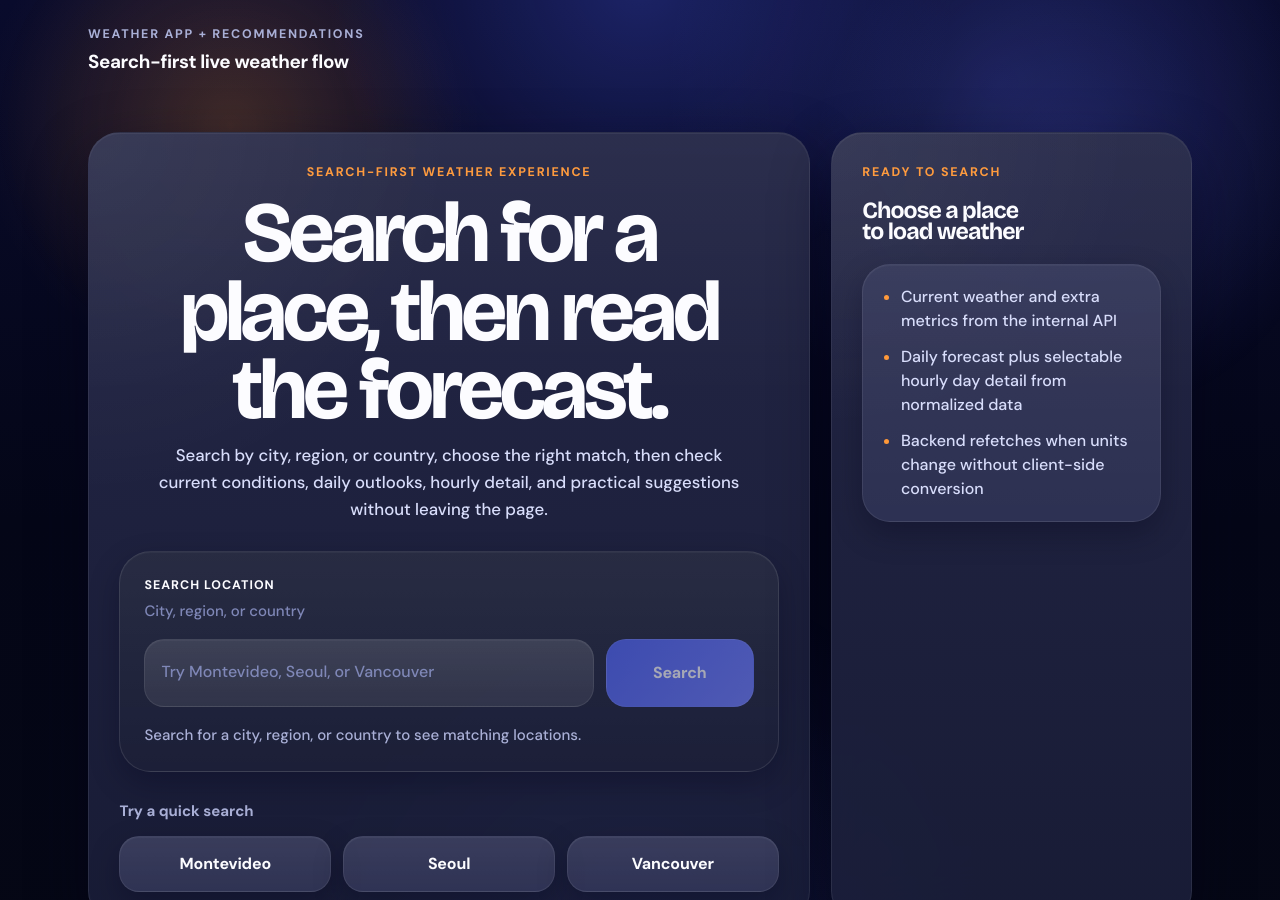
LocationSearchEmptyState › shows the weather API error state after selecting a location
Type "Montevideo" into the search field labelled "Search location".
click(369, 673); type("Montevideo")  # box [144,639,594,707]
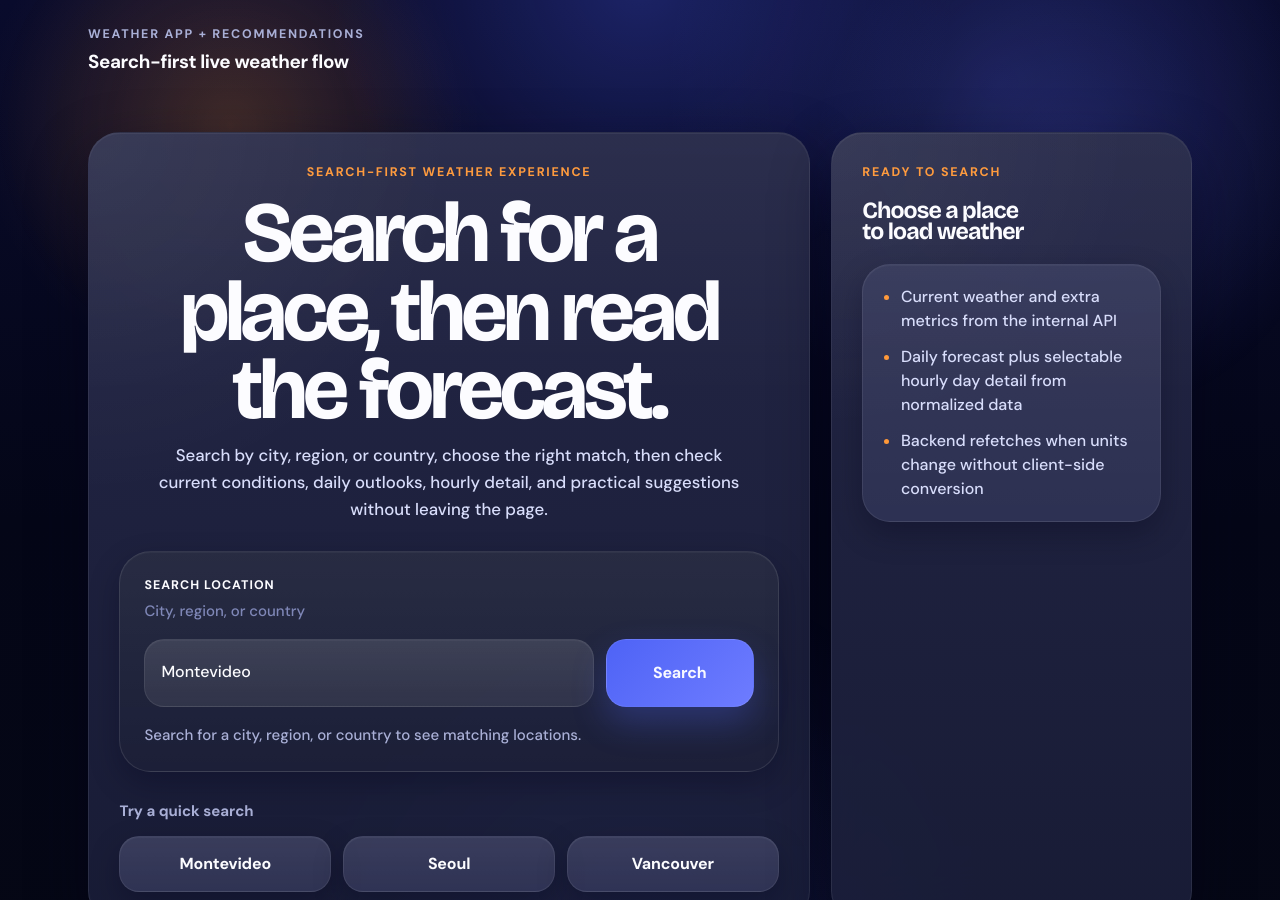
Submit the form labelled "Search location", box [119,551,779,772]
(page scrolled)
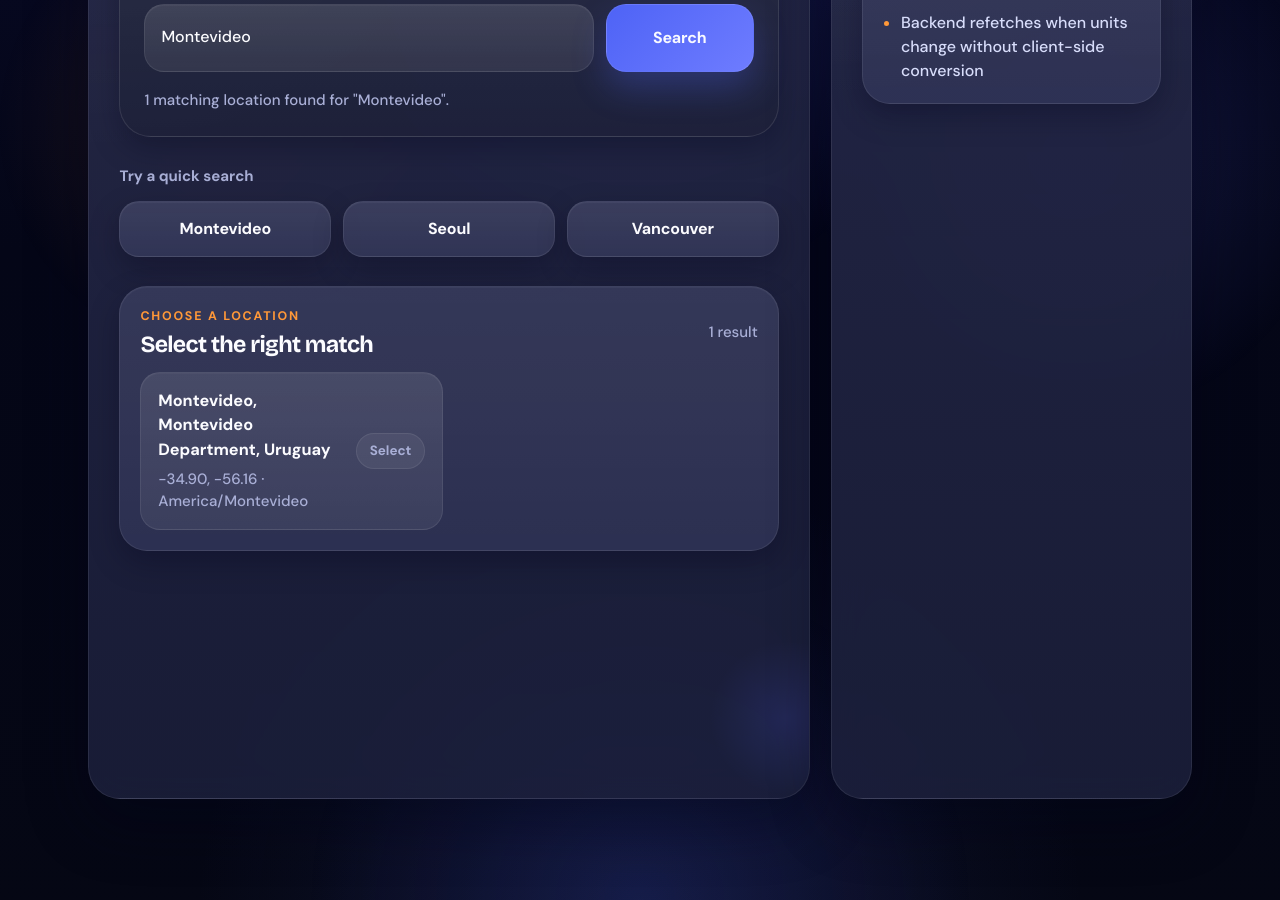
Click the button with aria-label "Select Montevideo, Montevideo Department, Uruguay".
click(292, 451)  # box [140,372,443,530]
(page scrolled)
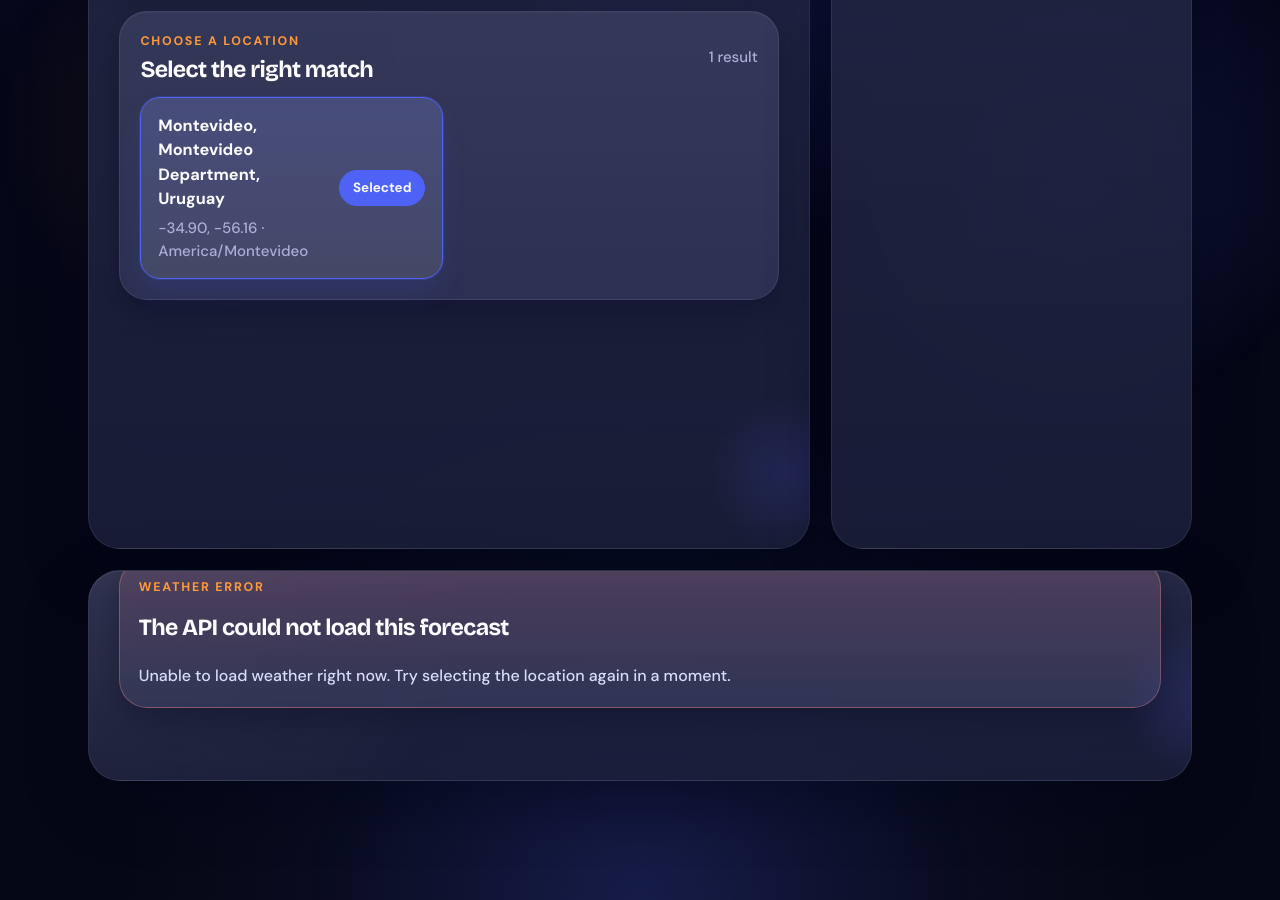
Now the heading "The API could not load this forecast" is shown, box [139,613,509,641]
Now the text "Unable to load weather right now." is shown, box [139,665,731,686]
